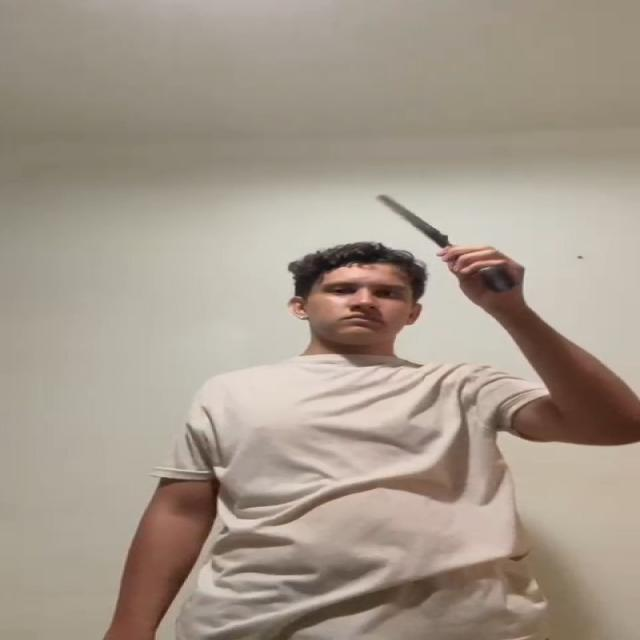knife: (378, 196, 448, 242)
